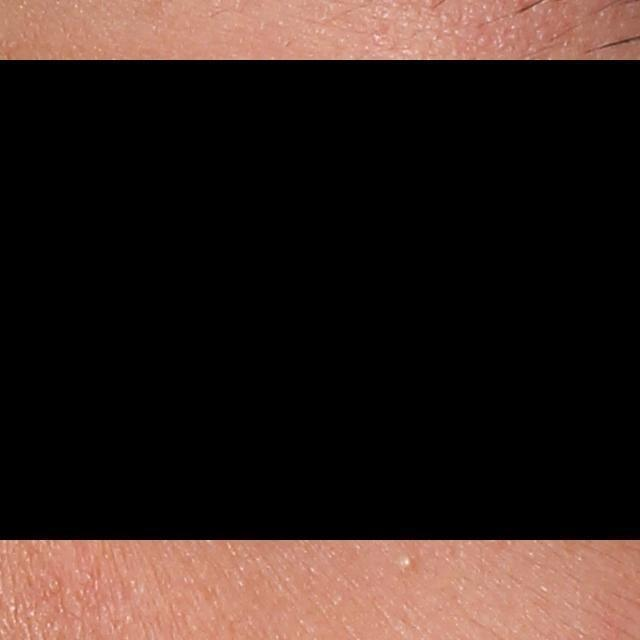comedo: (394, 549, 416, 575)
